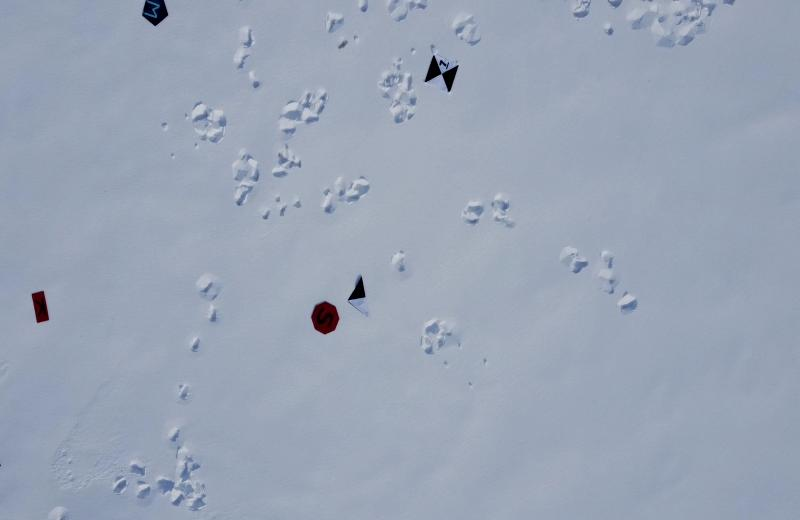Octagon: (307, 297, 343, 337)
Pentagon: (141, 0, 170, 28)
Rectangle: (25, 289, 55, 326)
